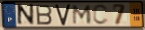7: (111, 3, 128, 26)
B: (35, 5, 54, 26)
C: (93, 3, 111, 26)
M: (72, 5, 92, 26)
N: (16, 3, 35, 27)
V: (54, 3, 72, 27)
